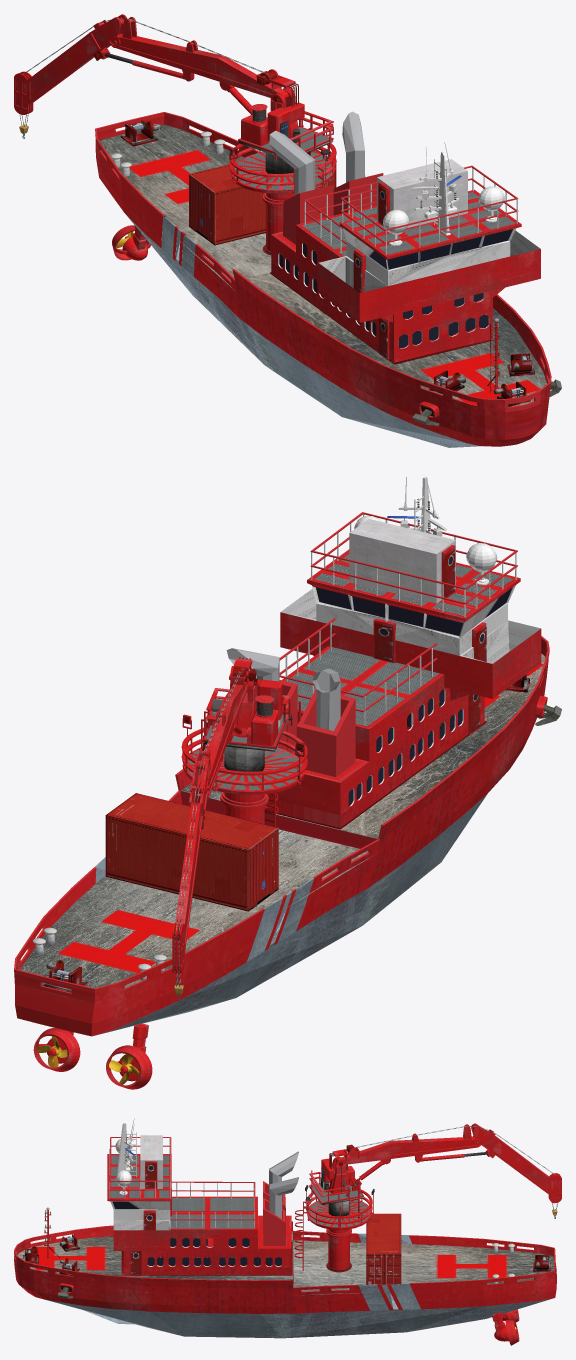
The model's file is icebreaker.glb.
3 renders of one model, top to bottom at view 1: azimuth 30°, elevation 25°; view 2: azimuth 150°, elevation 25°; view 3: azimuth 270°, elevation 25°, orthographic. The views are drawn at different scales.
Size of the model in its own units: 31.99 by 47.02 by 110.
51 materials, 47 textured.
